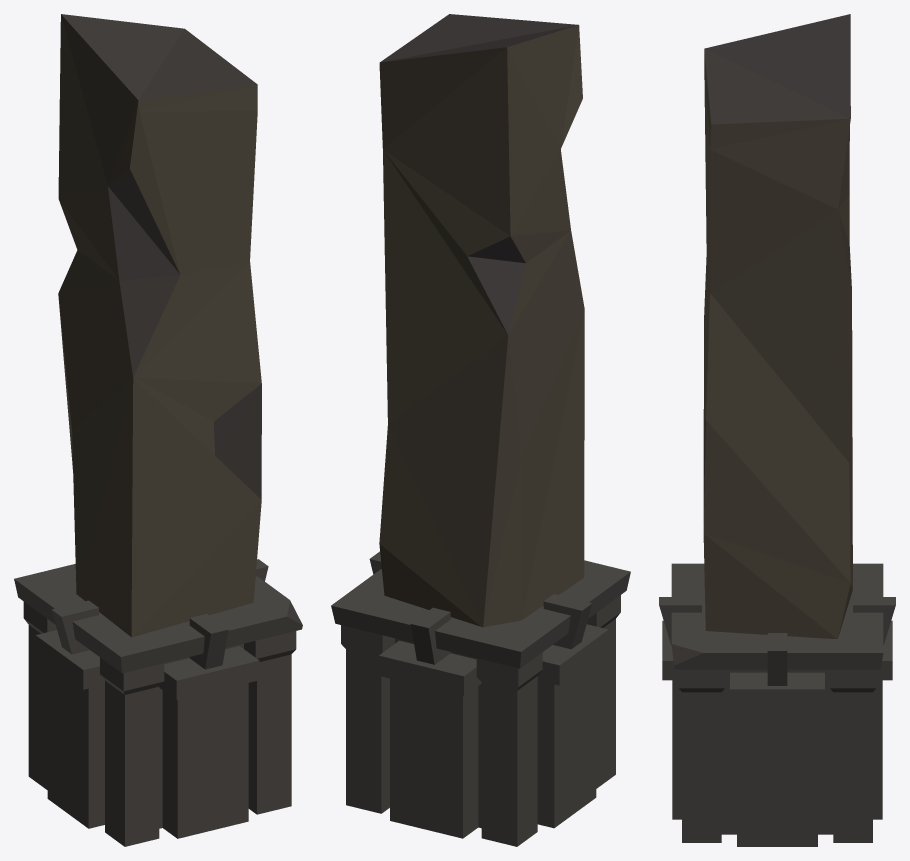
The model's file is Pillar_1C_LOD.fbx.
3 views of the same model, side by side, from view 1: azimuth 30°, elevation 25°; view 2: azimuth 150°, elevation 25°; view 3: azimuth 270°, elevation 25° (orthographic). The views are drawn at different scales.
Visible parts, largest first — view 1: polySurface1342; view 2: polySurface1342; view 3: polySurface1342.
Part boxes in pixels (left/top/right/bottom): polySurface1342: left=14, top=14, right=302, bottom=846; polySurface1342: left=331, top=14, right=630, bottom=846; polySurface1342: left=659, top=14, right=895, bottom=846.
Size of the model in its own units: 2.04 by 7.2 by 2.04.
